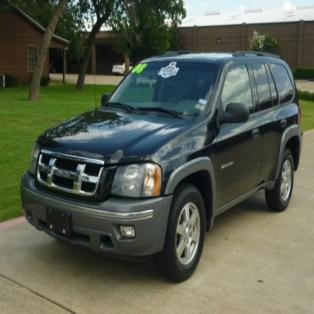Auto: (17, 52, 305, 288)
